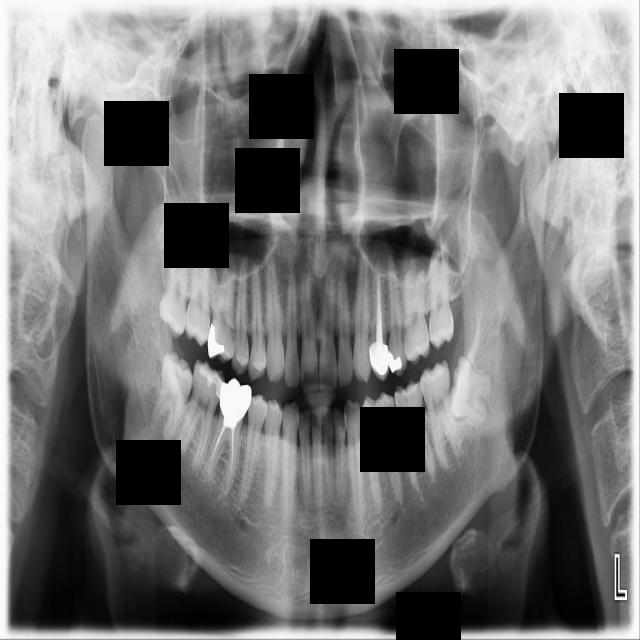52: (184, 357, 230, 407), (214, 376, 255, 424), (206, 313, 237, 364), (383, 328, 410, 379), (367, 332, 392, 384)
73: (204, 411, 246, 487), (607, 560, 617, 574)
BioHorizons Implant: (429, 246, 454, 351)
Biomet 3i Implant: (443, 355, 500, 428)
Blue Sky Bio Implant: (416, 358, 465, 473)
Caries: (182, 252, 212, 348)
Implant: (170, 359, 229, 475)
Keystone Dental Implant: (146, 349, 198, 446)
